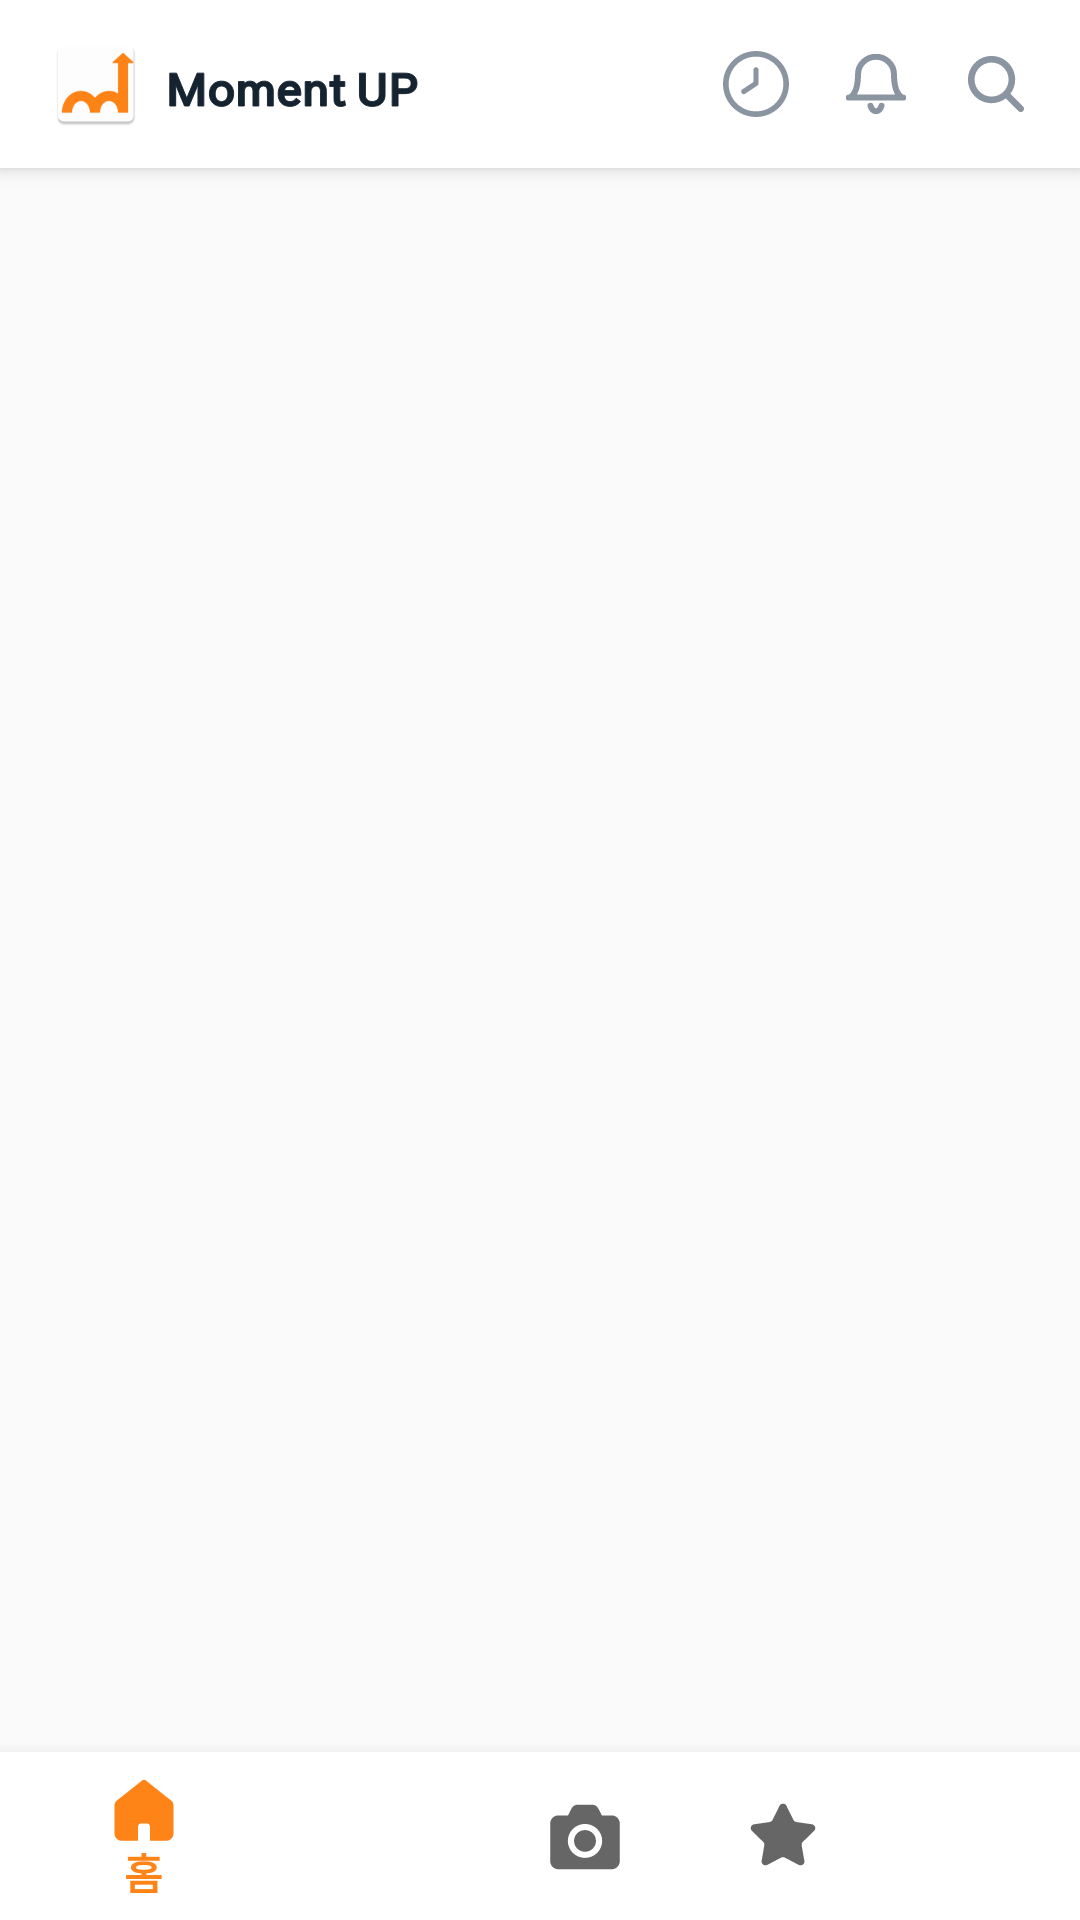

Where icons sit on this 1080px x 1920px app screen, as (left=x1, top=y1, right=x2, bottom=y2):
clock mono: (left=723, top=51, right=789, bottom=117)
notification mono: (left=846, top=54, right=906, bottom=114)
search mono: (left=968, top=56, right=1024, bottom=112)
